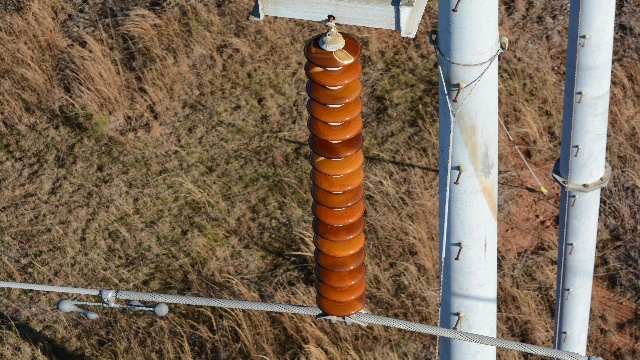insulator_unspecified: (301, 35, 367, 316)
pollution_flashover_local: (332, 48, 354, 64), (309, 66, 324, 73), (315, 154, 325, 163)
